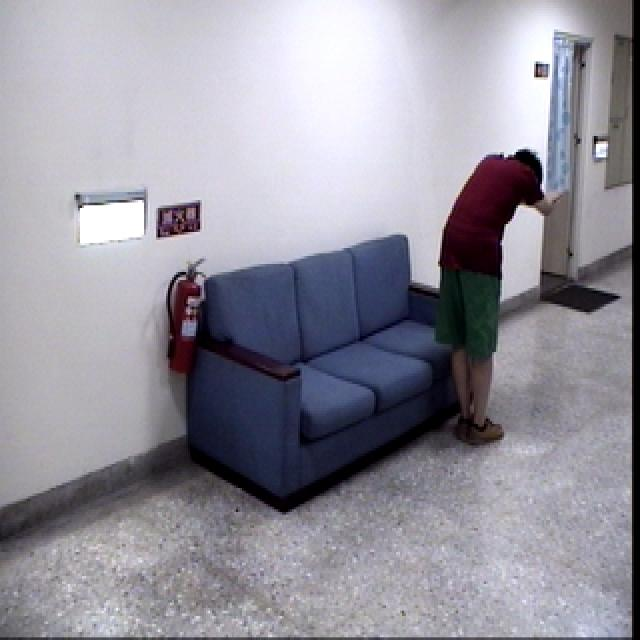bend: (425, 144, 569, 452)
